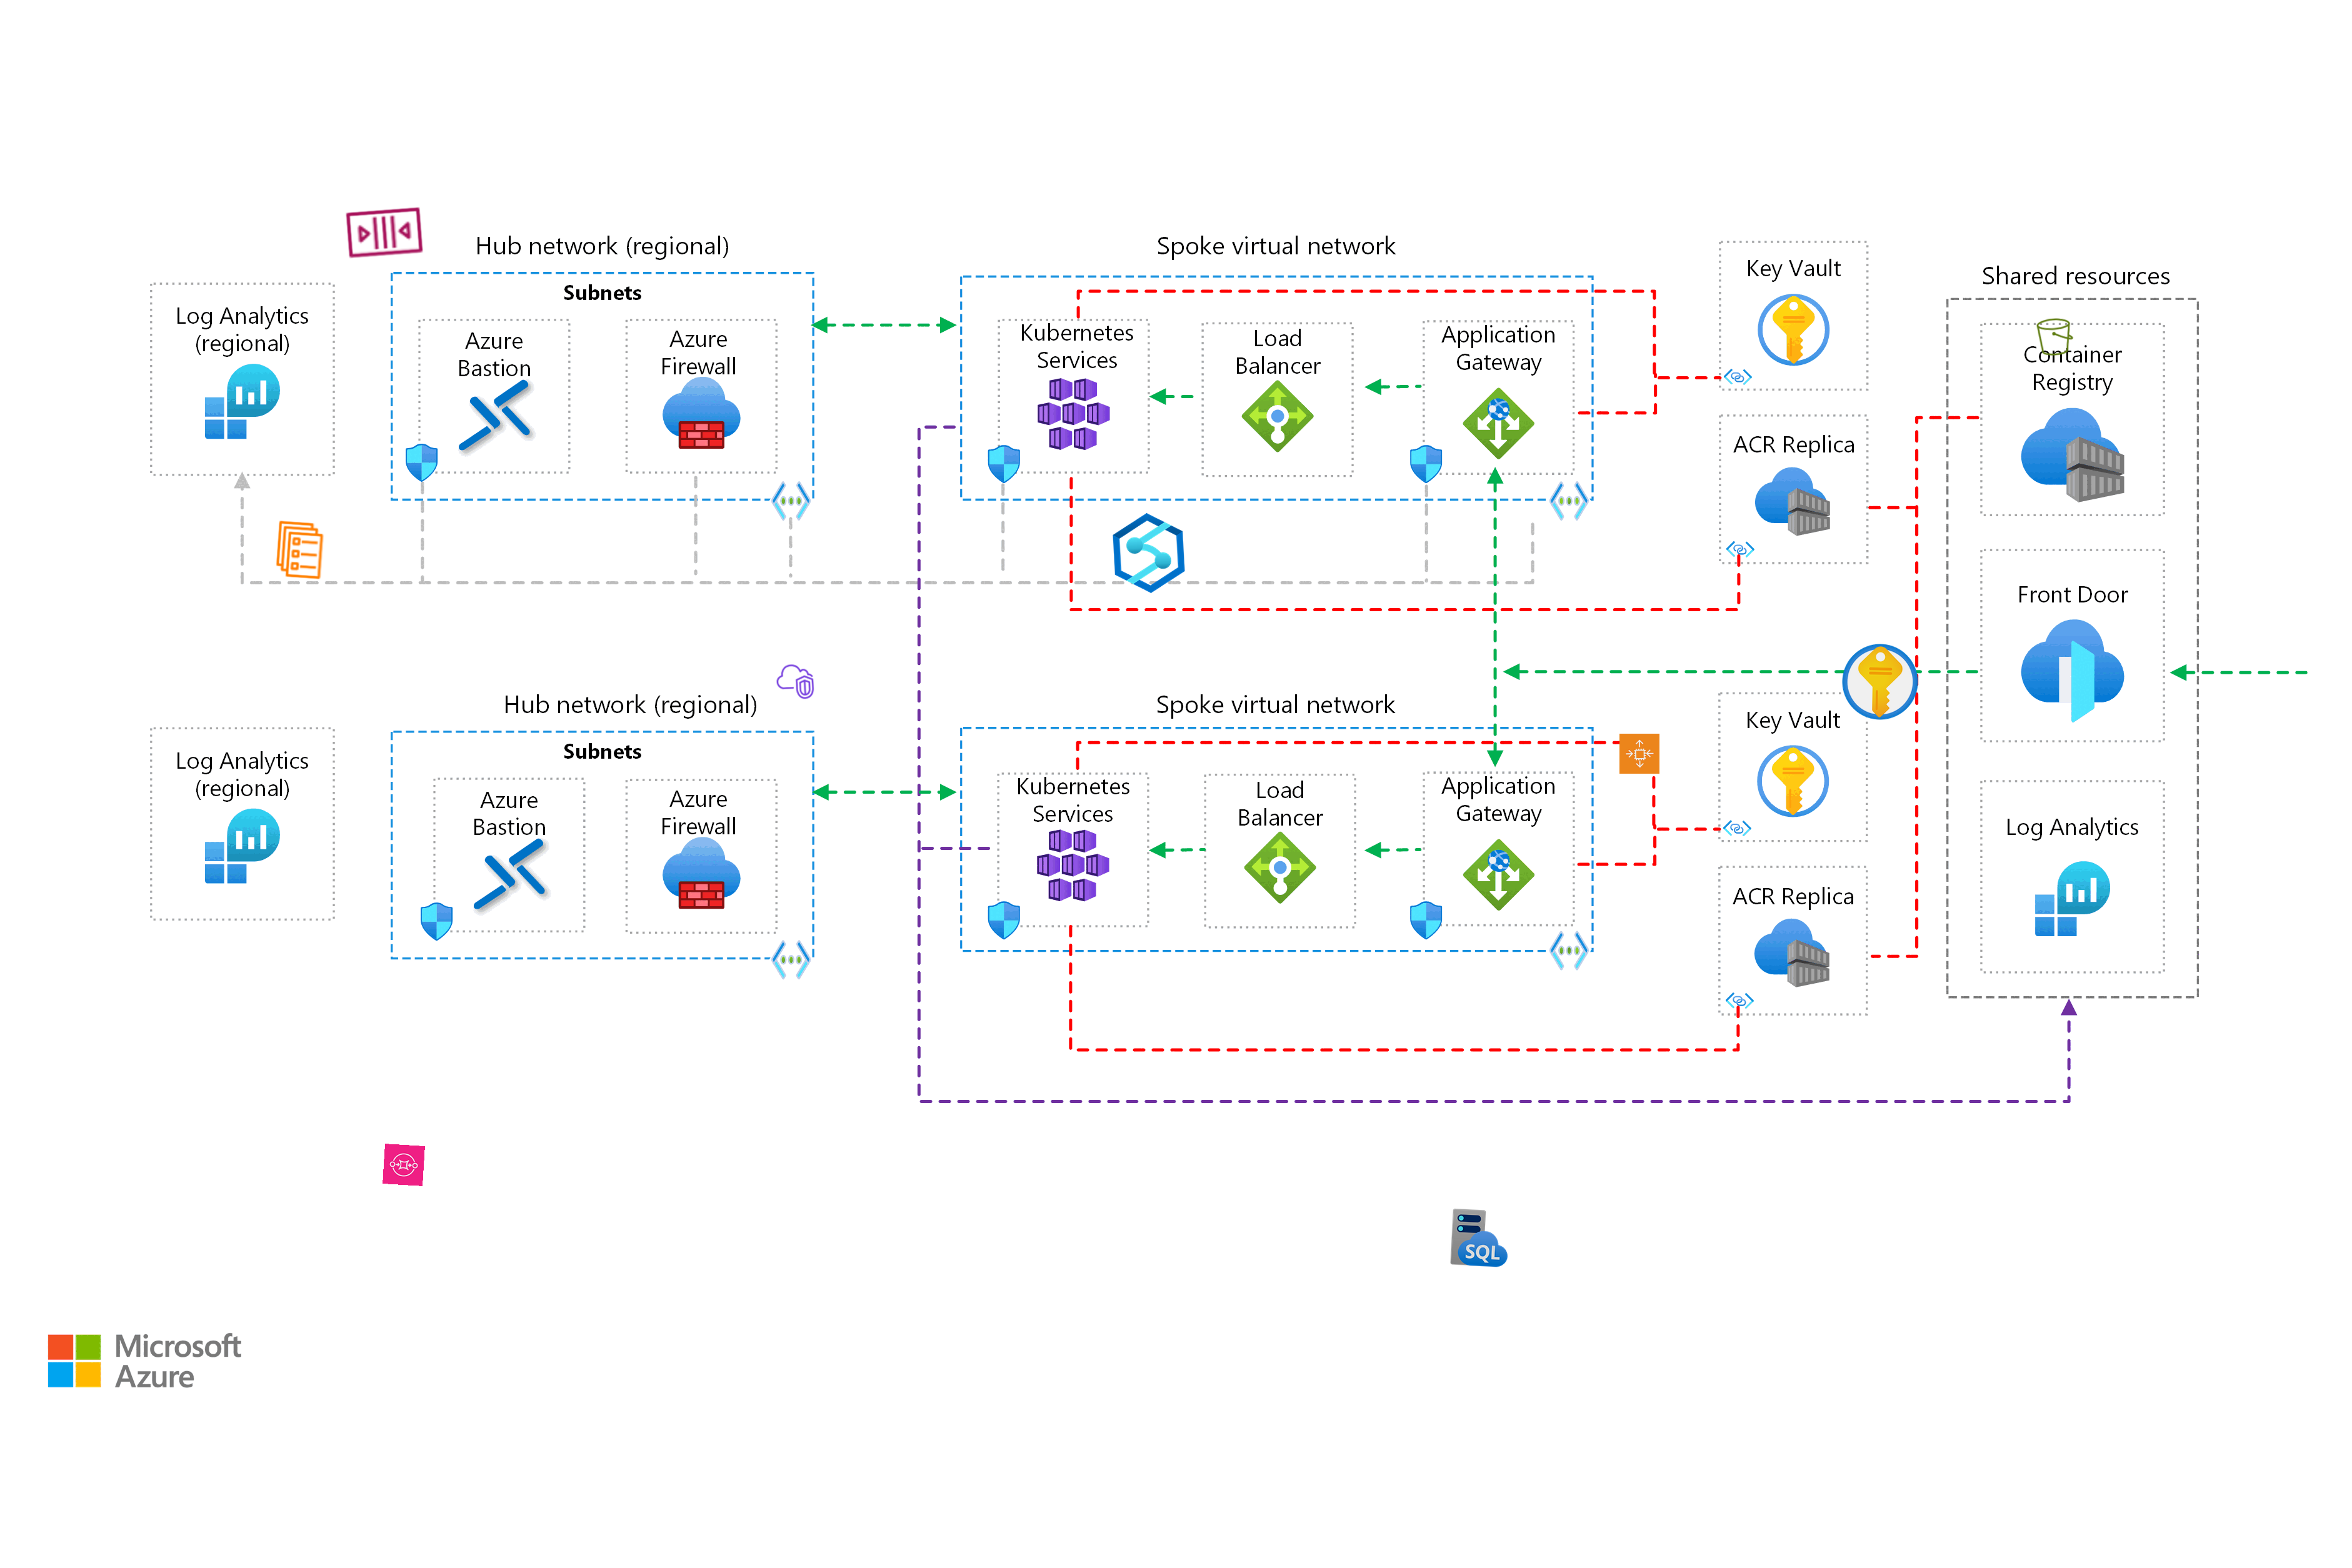aws_amazon_ec2_auto_scaling: (1619, 733, 1661, 773)
aws_amazon_simple_queue_service: (383, 1144, 425, 1186)
aws_elastic_container_service_service: (268, 518, 333, 583)
aws_simple_queue_service_queue: (341, 189, 427, 275)
aws_simple_storage_service_bucket: (2033, 315, 2077, 359)
aws_vpc_virtual_private_cloud_vpc: (774, 660, 815, 703)
azure_key_vaults: (1839, 640, 1921, 723)
azure_sql_managed_instance: (1449, 1206, 1512, 1270)
azure_synapse_analytics: (1106, 511, 1192, 595)
